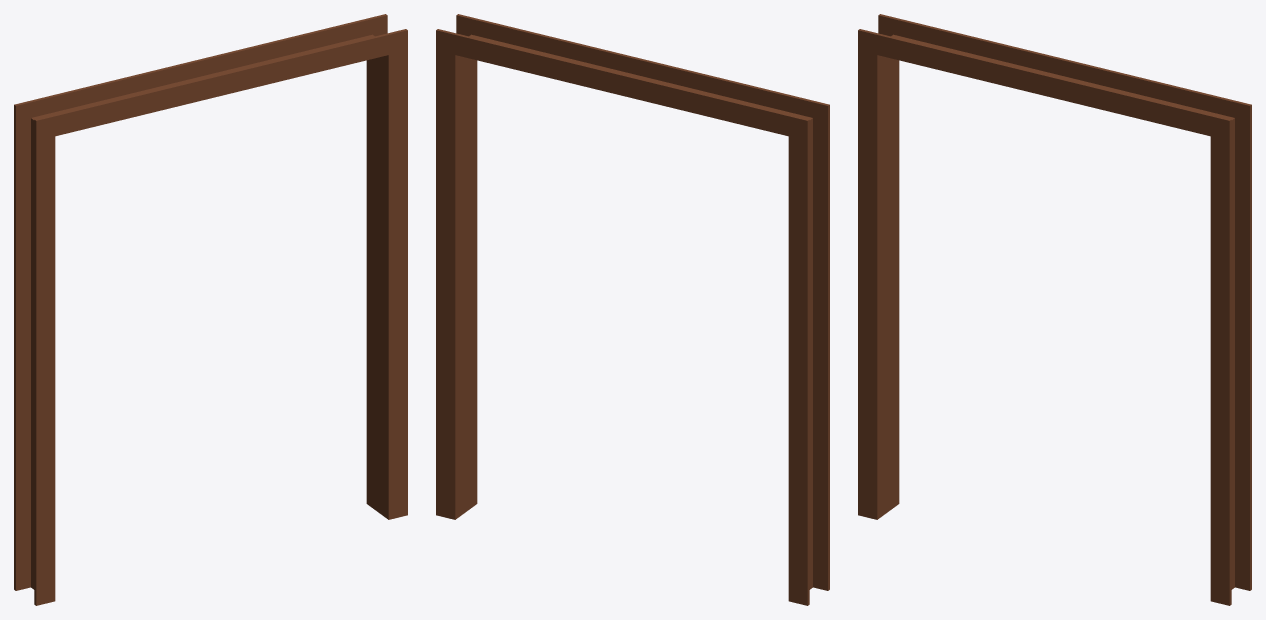
The model's file is batente_duplo_madeira.glb.
The picture shows the model from 3 angles, left to right: view 1: azimuth 30°, elevation 25°; view 2: azimuth 150°, elevation 25°; view 3: azimuth 330°, elevation 25°; orthographic projection.
Visible parts, largest first — view 1: batente_duplo_madeira; view 2: batente_duplo_madeira; view 3: batente_duplo_madeira.
Boxes of the visible parts, x1,y1,x2,y2 form: batente_duplo_madeira: (14, 14, 407, 605); batente_duplo_madeira: (436, 14, 829, 605); batente_duplo_madeira: (858, 14, 1251, 605).
Bounding box in the file's own units: 1.74 × 2.17 × 0.18.
